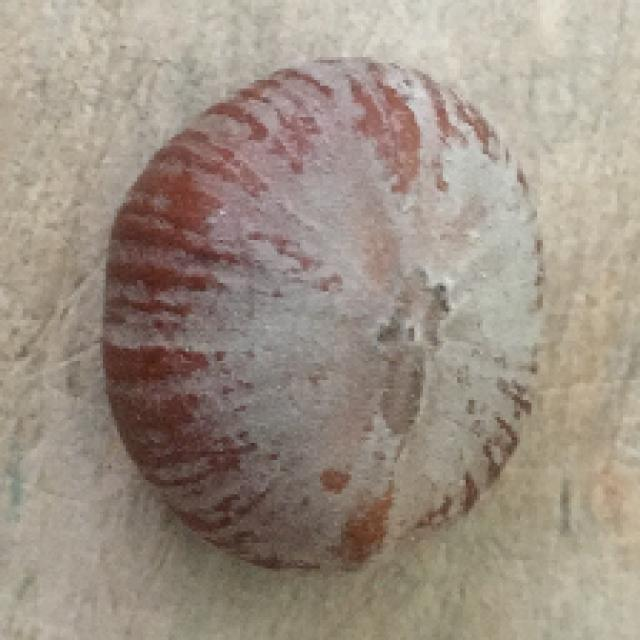qualityHazelnut: (102, 59, 547, 574)
